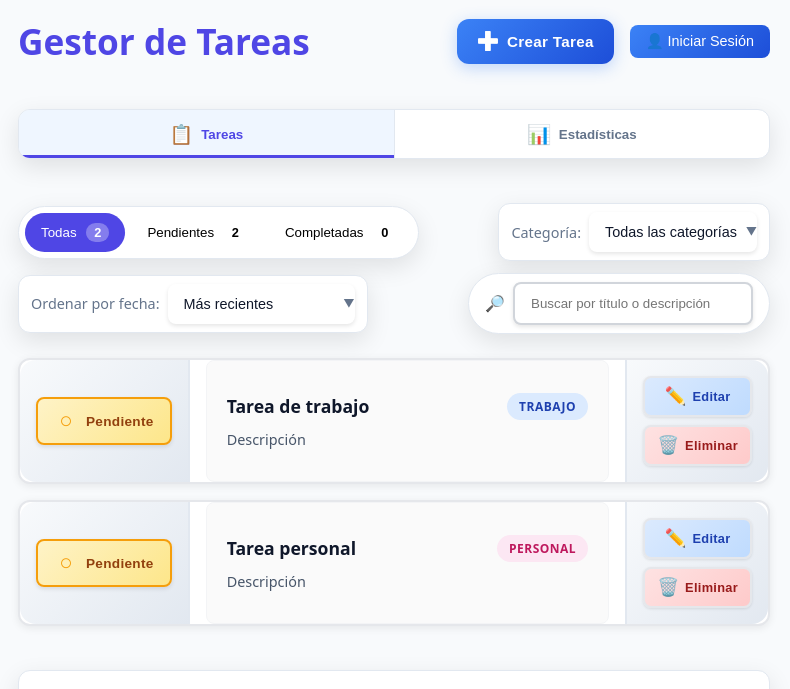
Test: Gestor de Tareas - App Principal › Funcionalidades Adicionales › debe filtrar tareas por búsqueda
This screenshot has width=790, height=689.
Expected: the heading "Tarea de trabajo" is shown, x1=227 y1=394 x2=369 y2=418
Expected: the heading "Tarea personal" is shown, x1=227 y1=536 x2=356 y2=560
// Buscar por "trabajo"
Step 1. Type "trabajo" into the field with placeholder "Buscar por título o descripción" → (633, 304), box x1=513 y1=282 x2=753 y2=325
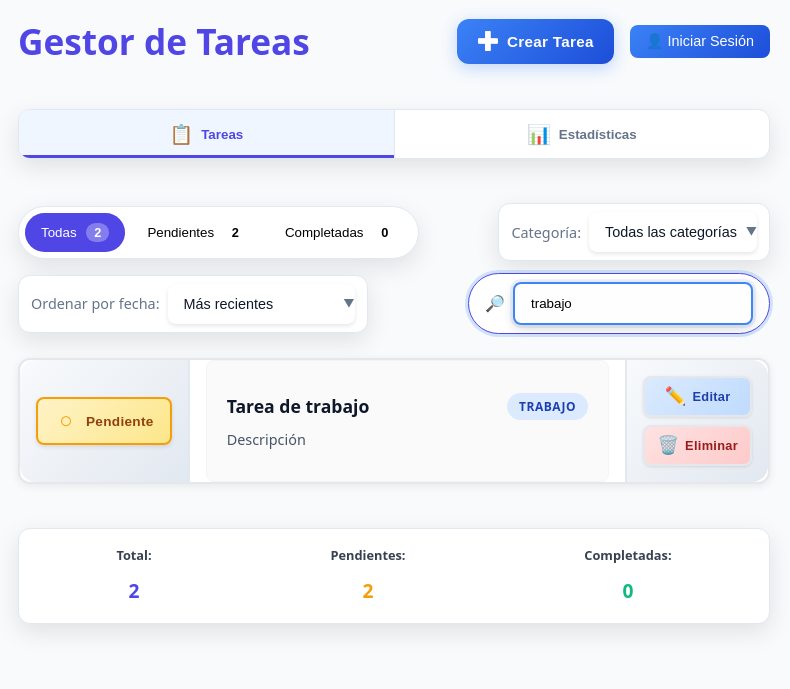
Expected: the heading "Tarea de trabajo" is shown, x1=227 y1=394 x2=369 y2=418
Now the heading "Tarea personal" is gone
